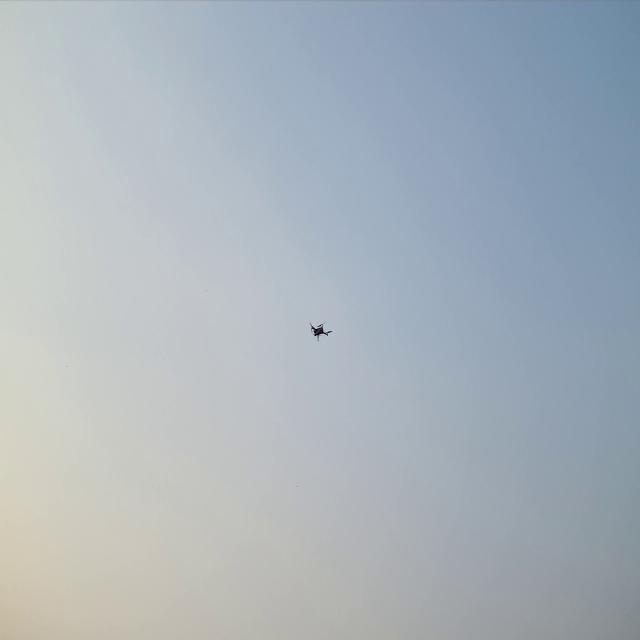UAV: (308, 319, 332, 342)
